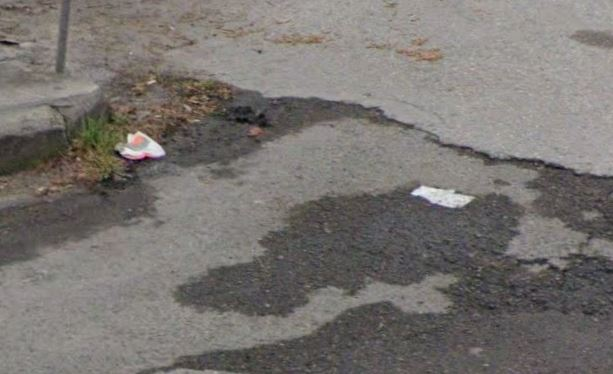trash: (113, 122, 170, 169), (410, 178, 481, 215)
